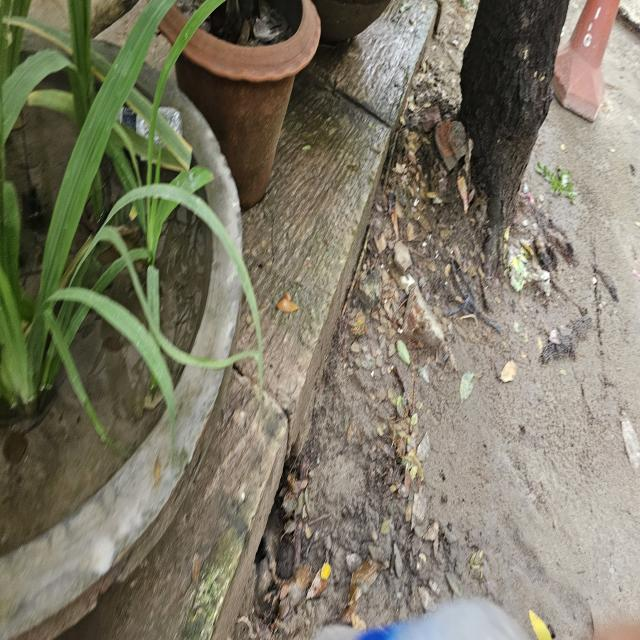artificial_container: (0, 20, 244, 640), (146, 0, 324, 212)
